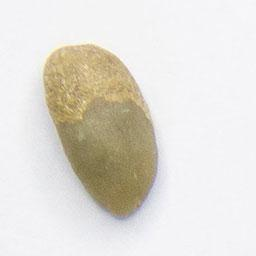longberry: (38, 39, 163, 221)
